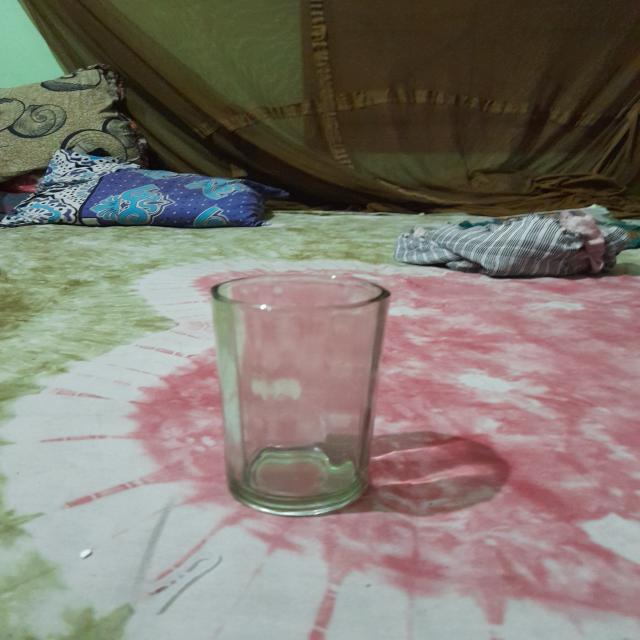Glass: (207, 271, 396, 520)
